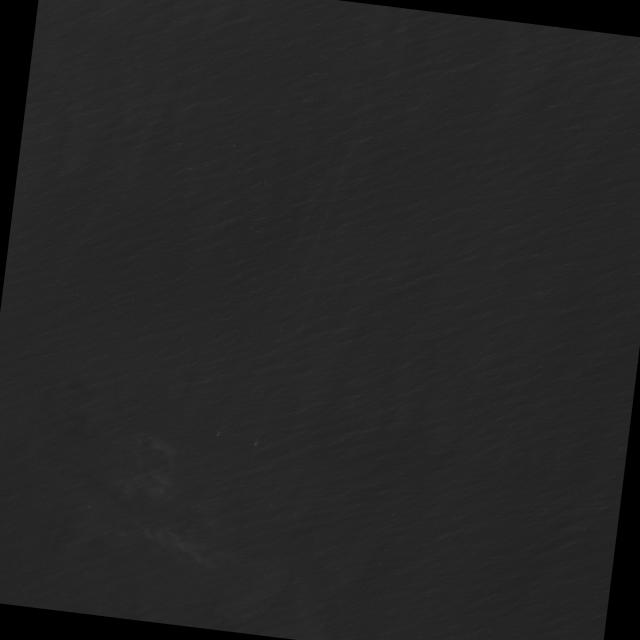ship: (252, 440, 257, 446), (214, 431, 218, 436)
